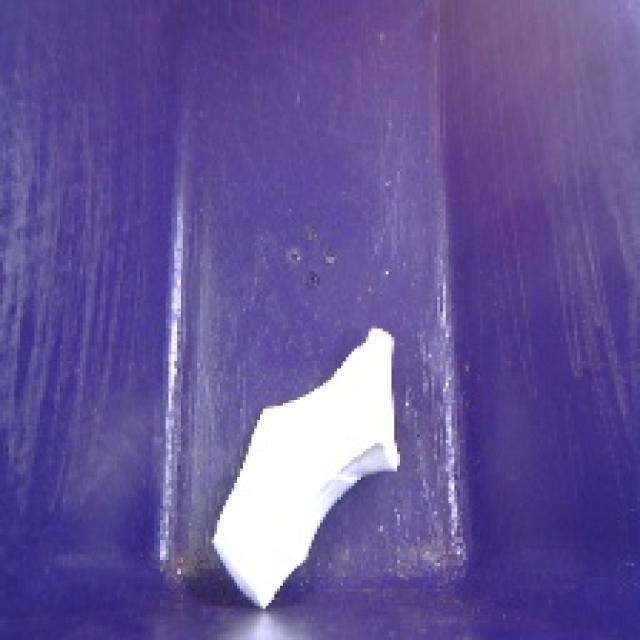china: (199, 316, 413, 619)
